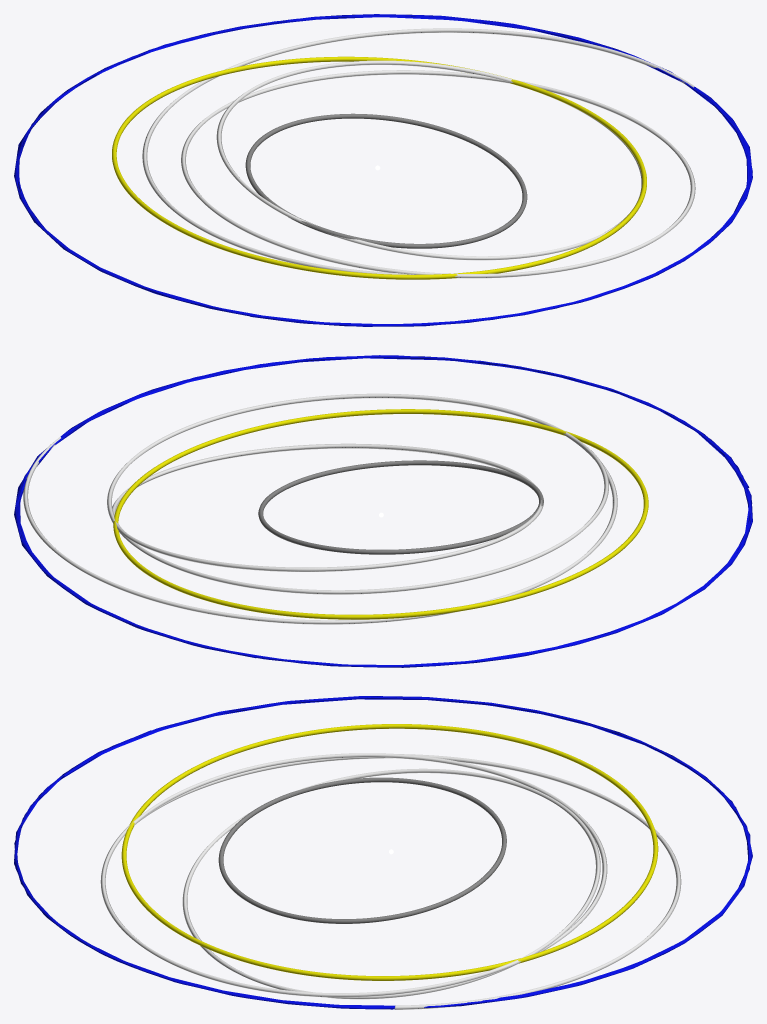
The model's file is Mercury.glb.
3 renders of one model, top to bottom at view 1: azimuth 30°, elevation 25°; view 2: azimuth 150°, elevation 25°; view 3: azimuth 270°, elevation 25°, orthographic.
Visible parts, largest first — view 1: evvme Trajectory, Earth Trajectory, Venus Trajectory, Mercury Trajectory; view 2: evvme Trajectory, Earth Trajectory, Venus Trajectory, Mercury Trajectory; view 3: evvme Trajectory, Earth Trajectory, Venus Trajectory, Mercury Trajectory.
Part boxes in pixels (x1,y1,x2,y2): evvme Trajectory: (142,28,695,278); Earth Trajectory: (14,14,752,326); Venus Trajectory: (112,56,646,279); Mercury Trajectory: (245,113,527,248); evvme Trajectory: (23,393,617,624); Earth Trajectory: (14,355,752,667); Venus Trajectory: (113,409,648,619); Mercury Trajectory: (258,460,543,554); evvme Trajectory: (100,753,681,1009); Earth Trajectory: (14,696,752,1009); Venus Trajectory: (121,724,658,980); Mercury Trajectory: (218,777,506,923).
Bounding box in the file's own units: 302 × 26.87 × 301.
